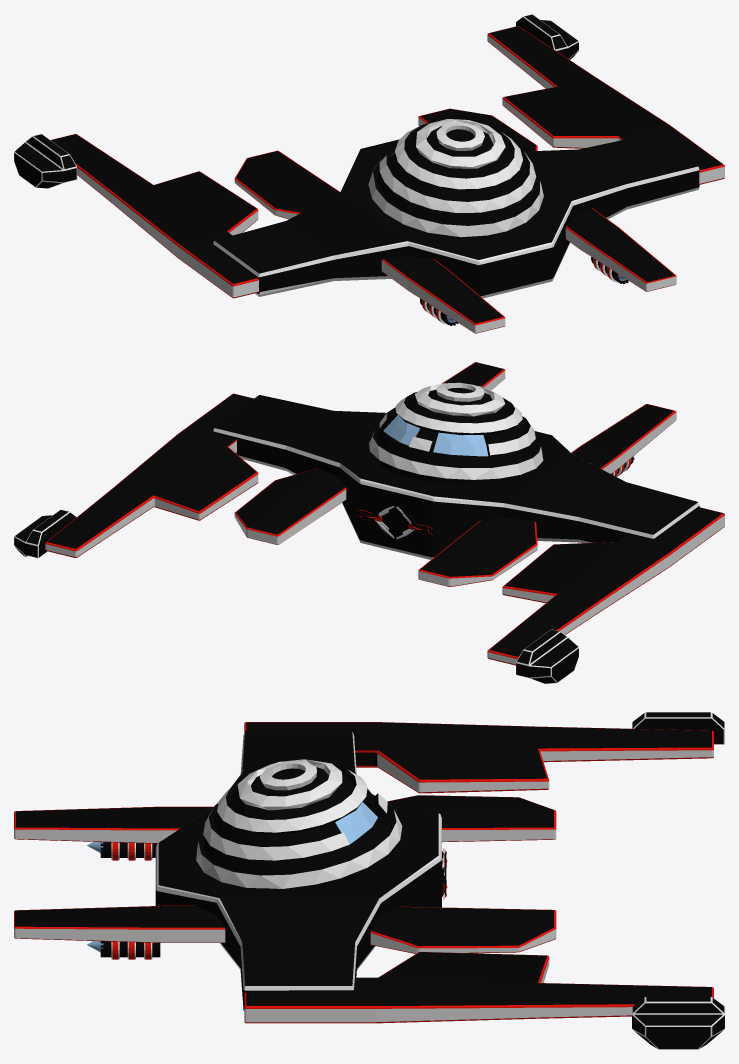
Rendered from Spaceship_08.fbx.
3 views of the same model, one above another, from view 1: azimuth 30°, elevation 25°; view 2: azimuth 150°, elevation 25°; view 3: azimuth 270°, elevation 25° (orthographic). The views are drawn at different scales.
Visible parts, largest first — view 1: Spaceship__08_detail_01, Spaceship__08_detail_02, Spaceship__08_detail_06, Spaceship__08_detail_03, Spaceship__08_detail_04, Spaceship_08_Engine; view 2: Spaceship__08_detail_01, Spaceship__08_detail_02, Spaceship__08_detail_03, Spaceship__08_detail_06, Spaceship__08_detail_04, Spaceship__08_detail_05; view 3: Spaceship__08_detail_02, Spaceship__08_detail_01, Spaceship__08_detail_03, Spaceship__08_detail_06, Spaceship__08_detail_04, Spaceship_08_Engine.
Boxes of the visible parts, bbox=[...] form: Spaceship__08_detail_01: bbox=[213, 133, 699, 298]; Spaceship__08_detail_02: bbox=[50, 26, 724, 298]; Spaceship__08_detail_06: bbox=[368, 119, 543, 237]; Spaceship__08_detail_03: bbox=[234, 108, 676, 333]; Spaceship__08_detail_04: bbox=[14, 14, 578, 188]; Spaceship_08_Engine: bbox=[420, 257, 628, 325]; Spaceship__08_detail_01: bbox=[213, 395, 699, 559]; Spaceship__08_detail_02: bbox=[45, 393, 724, 665]; Spaceship__08_detail_03: bbox=[234, 362, 676, 586]; Spaceship__08_detail_06: bbox=[369, 382, 543, 484]; Spaceship__08_detail_04: bbox=[14, 509, 578, 683]; Spaceship__08_detail_05: bbox=[357, 505, 432, 540]; Spaceship__08_detail_02: bbox=[244, 722, 713, 1023]; Spaceship__08_detail_01: bbox=[155, 731, 441, 1011]; Spaceship__08_detail_03: bbox=[14, 795, 556, 953]; Spaceship__08_detail_06: bbox=[196, 759, 402, 888]; Spaceship__08_detail_04: bbox=[632, 712, 724, 1049]; Spaceship_08_Engine: bbox=[87, 841, 160, 959].
Size of the model in its own units: 699 by 148 by 672.
